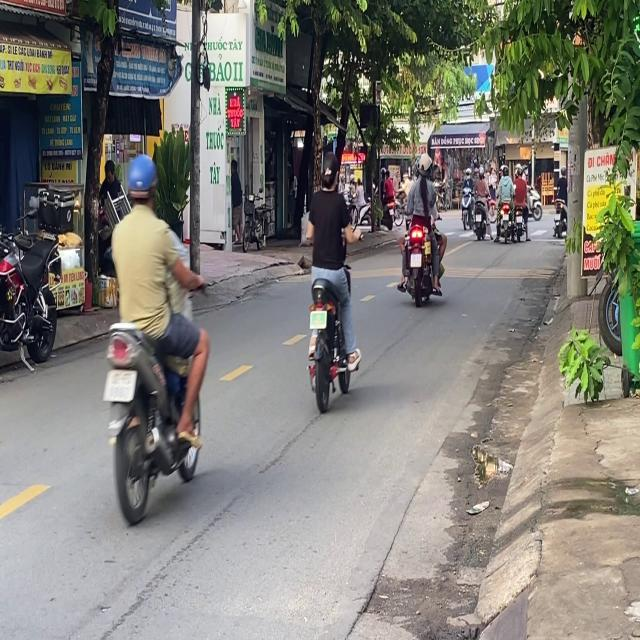helmet: (125, 152, 158, 210), (417, 152, 430, 176)
licenseplate: (100, 150, 211, 520), (302, 149, 360, 408), (397, 151, 446, 305)
motorcyclist: (320, 152, 340, 190)
nohelmet: (104, 370, 136, 400), (309, 310, 326, 328), (410, 252, 422, 266)
